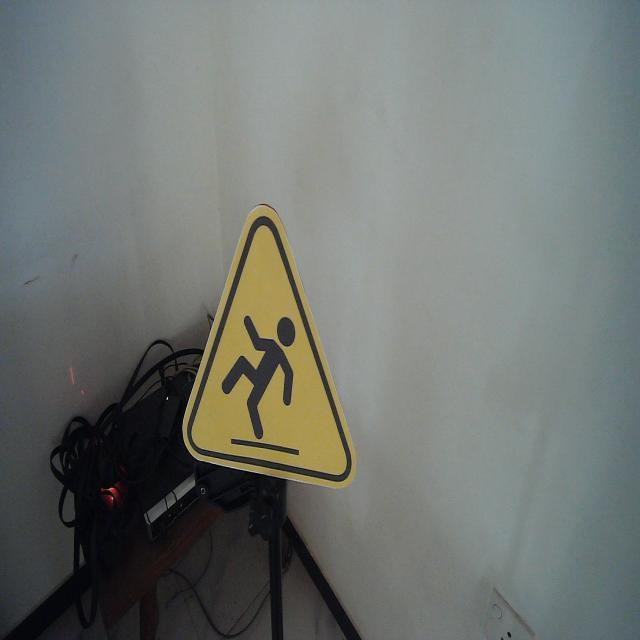slippery_sign: (180, 203, 358, 493)
